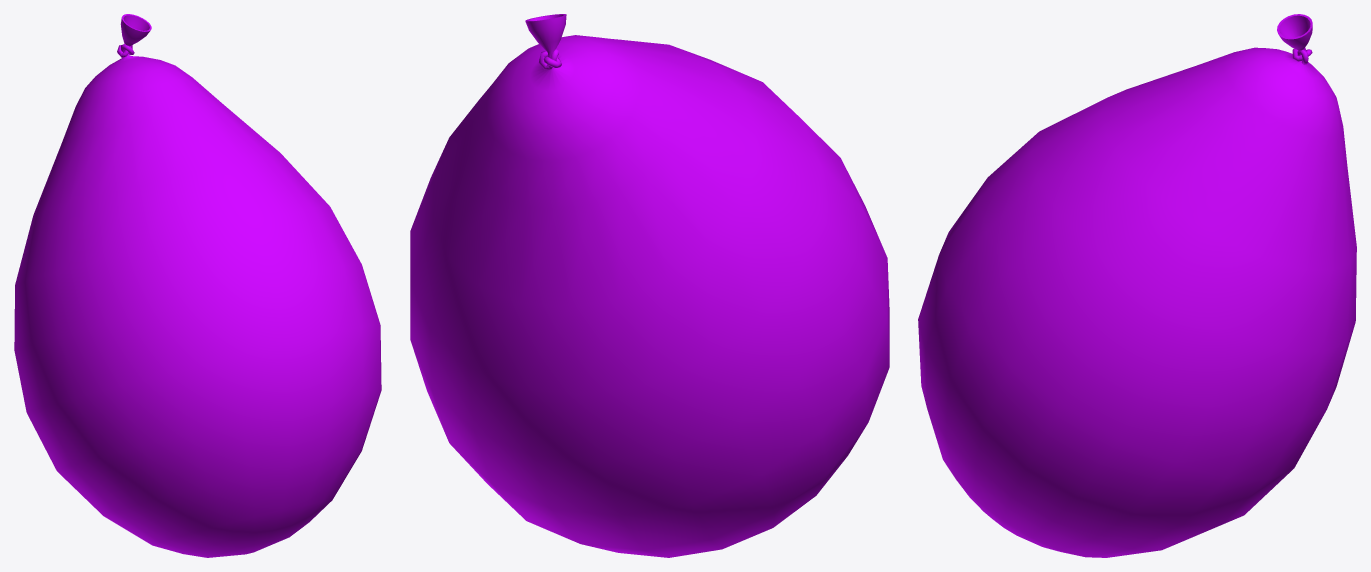
The model's file is globo3.obj.
3 renders of one model, left to right at view 1: azimuth 30°, elevation 25°; view 2: azimuth 150°, elevation 25°; view 3: azimuth 270°, elevation 25°, orthographic. The views are drawn at different scales.
Visible parts, largest first — view 1: Balloon030; view 2: Balloon030; view 3: Balloon030.
Part boxes in pixels (x1,y1,x2,y2): Balloon030: (14,14,381,557); Balloon030: (410,14,889,557); Balloon030: (918,14,1356,557).
Size of the model in its own units: 0.7335 by 1.01 by 0.7658.
